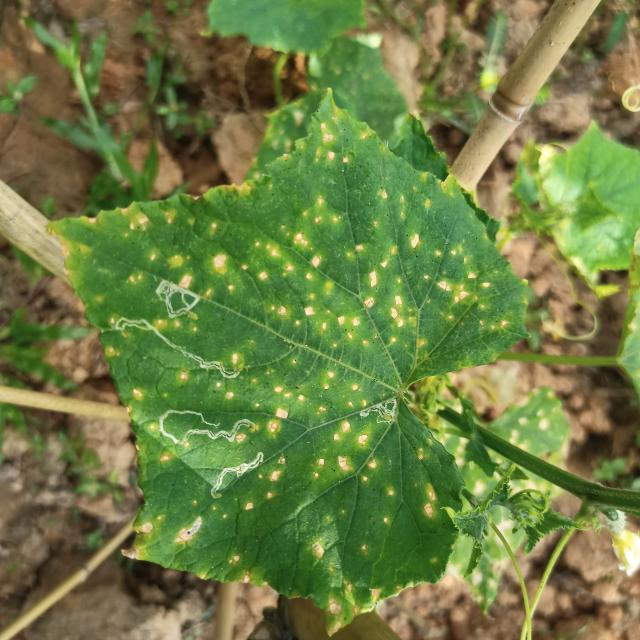disease_cucumber: (81, 126, 492, 358), (308, 422, 400, 515), (257, 366, 362, 438), (309, 534, 387, 630), (130, 507, 213, 558), (242, 454, 290, 517), (174, 370, 244, 404), (224, 547, 277, 588), (421, 480, 441, 529)
